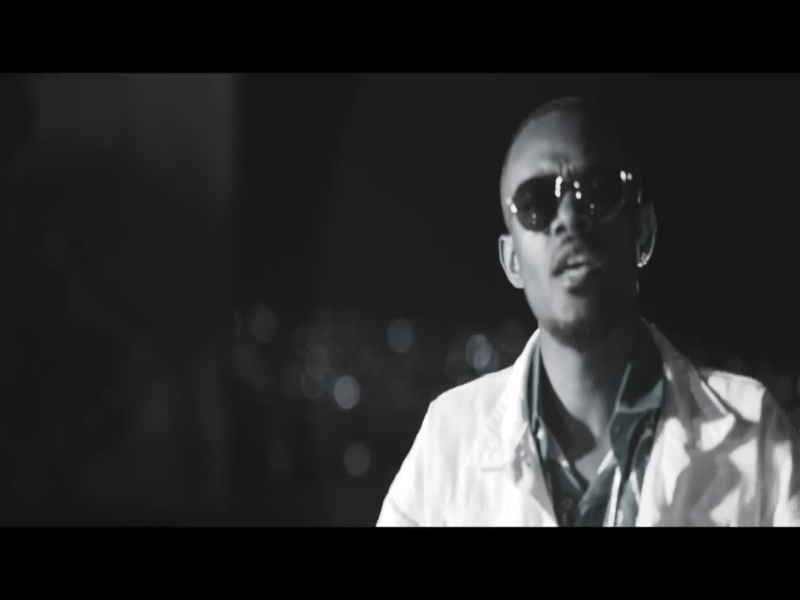TsisyArotava: (482, 115, 672, 356)
